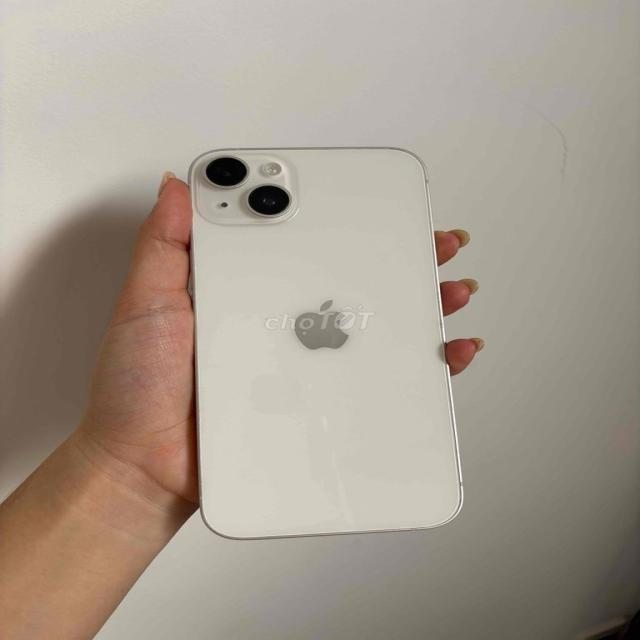gen_14: (175, 136, 473, 546)
